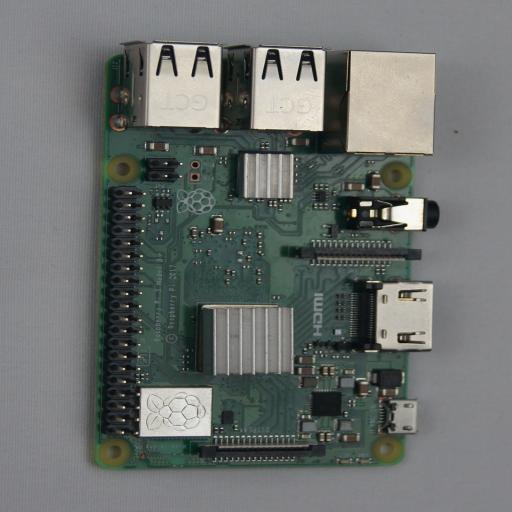Raspberry Pi 3 B-: (84, 41, 458, 471)
